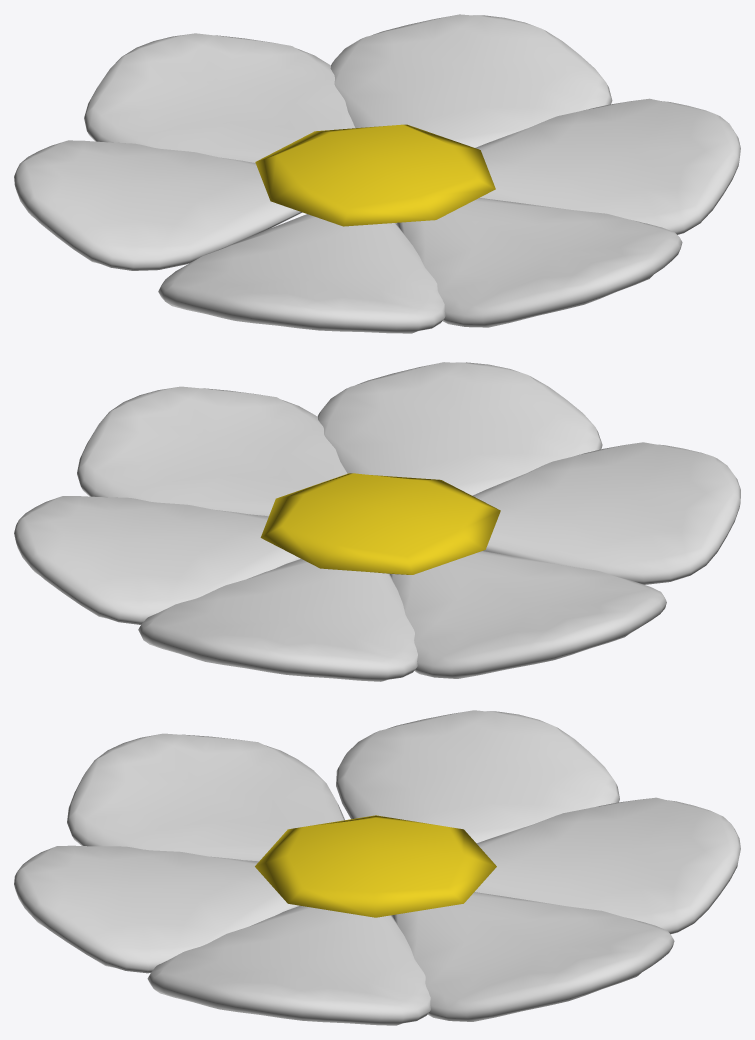
File: Daisy_low.fbx
The picture shows the model from 3 angles, top to bottom: view 1: azimuth 30°, elevation 25°; view 2: azimuth 150°, elevation 25°; view 3: azimuth 270°, elevation 25°; orthographic projection.
Visible parts, largest first — view 1: Cube.002; view 2: Cube.002; view 3: Cube.002.
Part boxes in pixels (x1,y1,x2,y2): Cube.002: [14, 14, 740, 333]; Cube.002: [14, 362, 740, 681]; Cube.002: [14, 710, 740, 1025].
Size of the model in its own units: 476 by 34.83 by 493.
